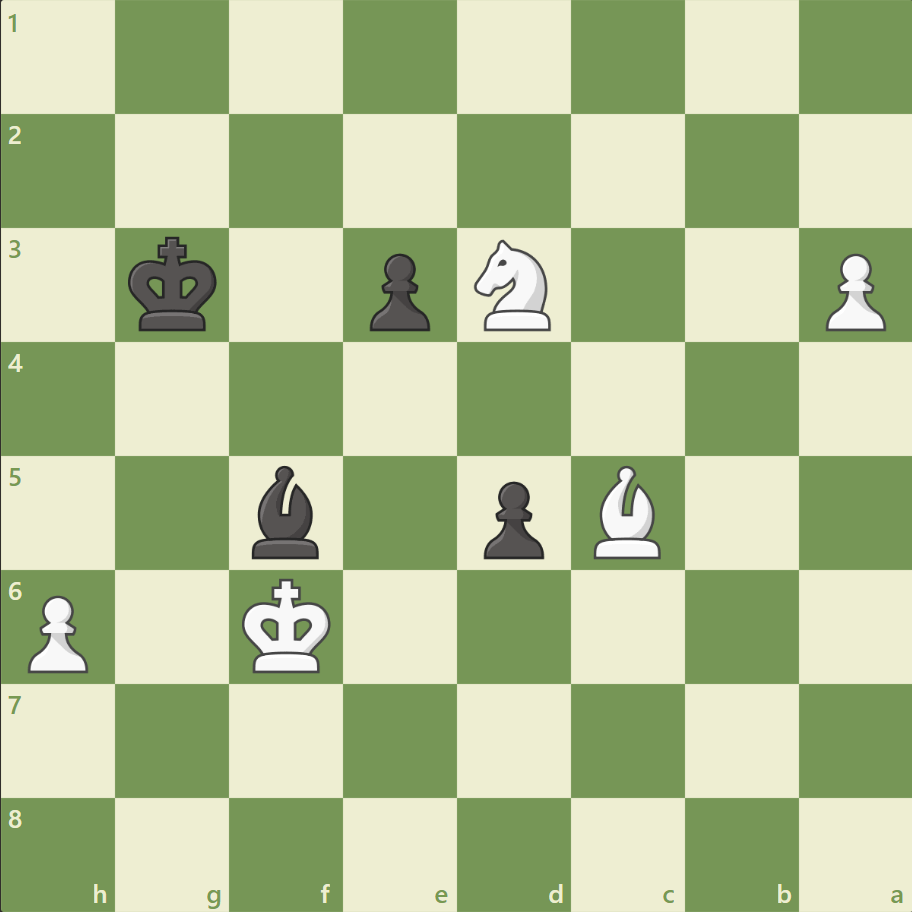B: (585, 460, 669, 563)
K: (238, 571, 338, 679)
N: (465, 234, 562, 337)
P: (20, 586, 95, 677), (815, 246, 889, 337)
b: (244, 460, 328, 563)
k: (124, 231, 224, 339)
p: (474, 473, 549, 564), (361, 246, 435, 337)
